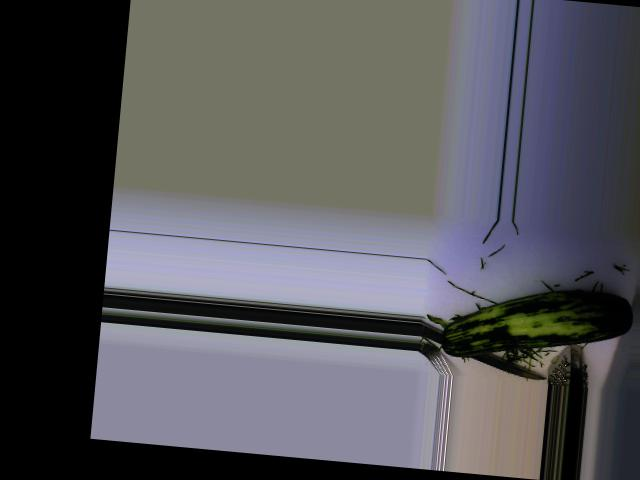cucumber: (438, 277, 634, 372)
